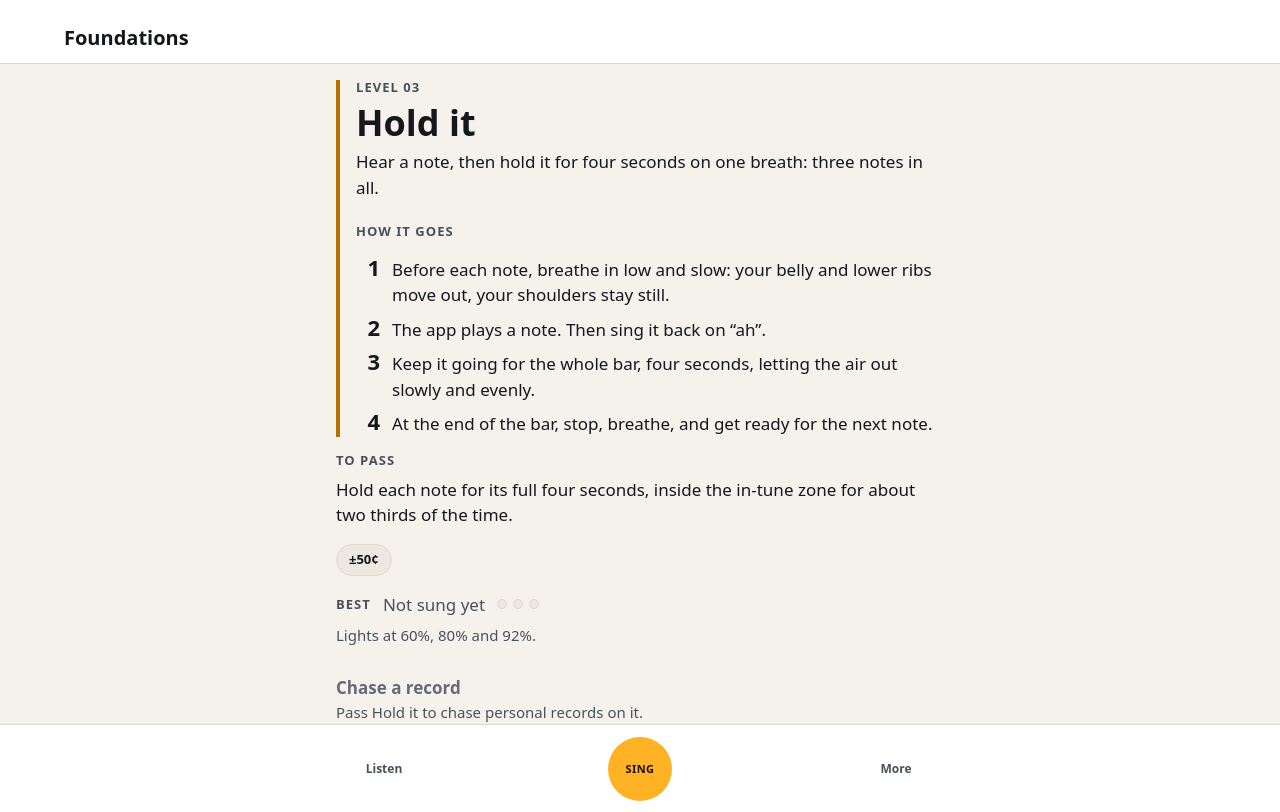
Test case: Level without a lesson: Listen and More › shows a runner error next to the cause
This screenshot has width=1280, height=812.
Click the button with test id "listen-button": (384, 768) [336,744,432,792]
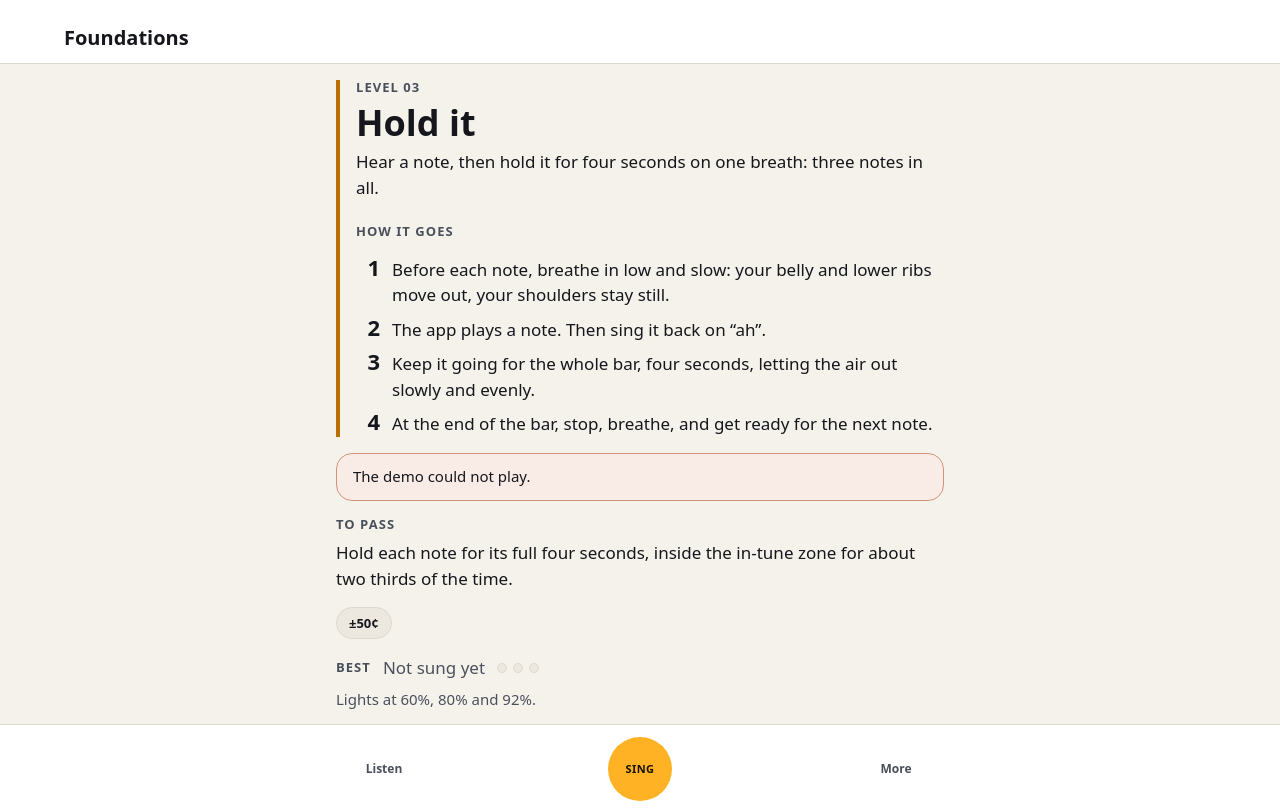
Expected: the text "The demo could not play." is shown, [353,466,530,486]
